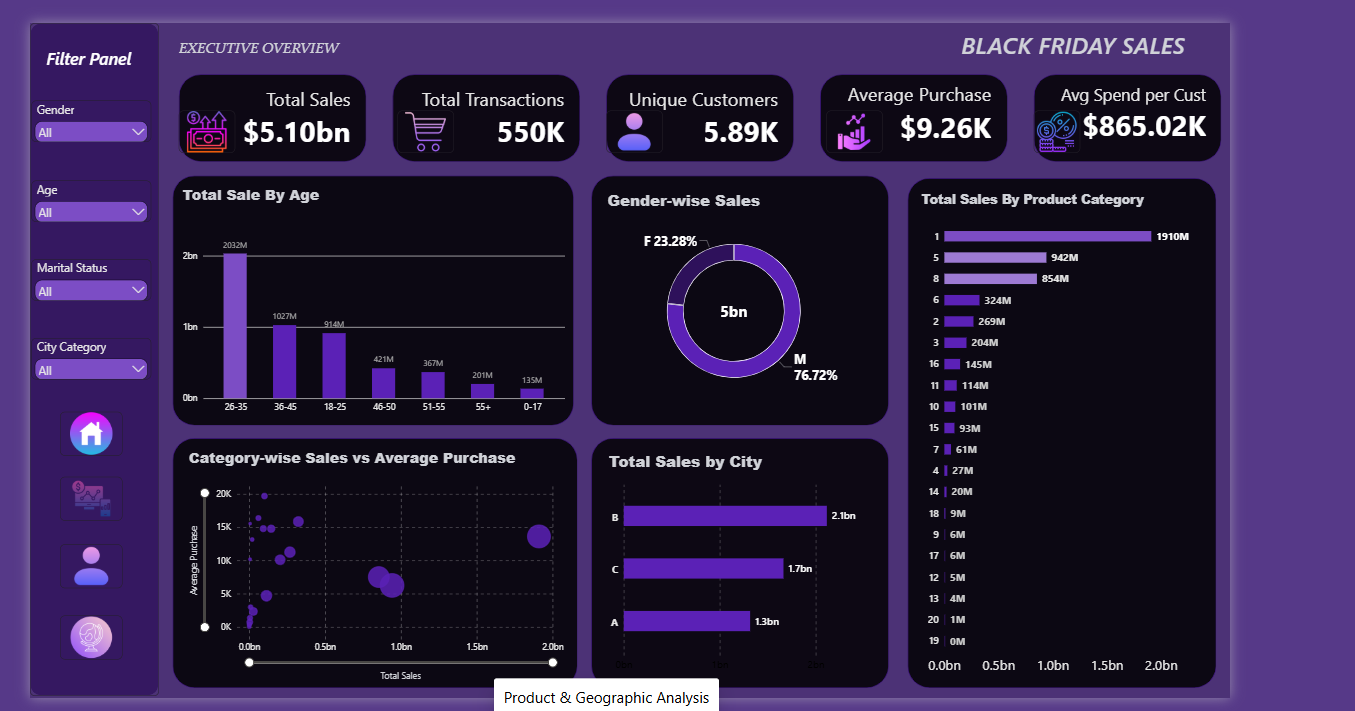

The dashboard page shown, as its layout file describes it:
{"tool":"powerbi","page":{"name":"EXECUTIVE OVERVIEW","canvas":[1920,1080],"ordinal":1},"visuals":[{"type":"shape","box":[238,82,300,140],"z":0},{"type":"shape","box":[580,82,300,140],"z":1000},{"type":"shape","box":[922,82,300,140],"z":2000},{"type":"shape","box":[1264,82,300,140],"z":3000},{"type":"shape","box":[1606,82,300,140],"z":4000},{"type":"shape","box":[228,244,642,400],"z":5000},{"type":"shape","box":[228,664,648,400],"z":6000},{"type":"shape","box":[1404,248,494,816],"z":7000},{"type":"shape","box":[898,244,476,400],"z":8000},{"type":"shape","box":[898,664,476,400],"z":9000},{"type":"shape","box":[0,0,206.3,1076.7],"z":10000},{"type":"cardVisual","fields":{"Data":["_Measures.Total Sales"]},"box":[238,82,291,140],"z":11000},{"type":"cardVisual","fields":{"Data":["_Measures.Average Purchase"]},"box":[1282,82,272,126],"z":12000},{"type":"cardVisual","fields":{"Data":["_Measures.Unique Customers"]},"box":[922.2,81.3,291,140],"z":13000},{"type":"cardVisual","fields":{"Data":["_Measures.Total Transactions"]},"box":[580.5,81.3,291,140],"z":14000},{"type":"cardVisual","fields":{"Data":["_Measures.Average Spend per Customer"]},"box":[1606,82,292,126],"z":15000},{"type":"clusteredColumnChart","title":"Total Sale By Age","fields":{"Category":["black_friday_db black_friday_data.Age"],"Y":["Sum(black_friday_db black_friday_data.Purchase)"]},"box":[228,244,644,400],"z":16000},{"type":"donutChart","title":"Gender-wise Sales","fields":{"Category":["black_friday_db black_friday_data.Gender"],"Y":["_Measures.Total Sales"]},"box":[908,252,436,372],"z":17000},{"type":"barChart","title":"Total Sales by City ","fields":{"Y":["_Measures.Total Sales"],"Category":["black_friday_db black_friday_data.City_Category"]},"box":[910,670,454,388],"z":18000},{"type":"barChart","title":"Total Sales By Product Category","fields":{"Y":["_Measures.Total Sales"],"Category":["black_friday_db black_friday_data.Product_Category_1"]},"box":[1410,252,488,812],"z":19000},{"type":"scatterChart","title":"Category-wise Sales vs Average Purchase","fields":{"X":["_Measures.Total Sales"],"Y":["_Measures.Average Purchase"],"Size":["_Measures.Total Transactions"],"Category":["black_friday_db black_friday_data.Product_Category_1 Hierarchy.Product_Category_1"]},"box":[238,664,632,400],"z":20000},{"type":"textbox","box":[25.3,38,181,44],"z":21000},{"type":"slicer","fields":{"Values":["black_friday_db black_friday_data.Gender"]},"box":[2.3,124.9,192,66],"z":22000},{"type":"slicer","fields":{"Values":["black_friday_db black_friday_data.Age"]},"box":[2.3,251.5,192,66],"z":23000},{"type":"slicer","fields":{"Values":["black_friday_db black_friday_data.Marital_Status"]},"box":[2.3,378.1,192,66],"z":24000},{"type":"slicer","fields":{"Values":["black_friday_db black_friday_data.City_Category"]},"box":[2.3,504.8,192,66],"z":25000},{"type":"textbox","box":[1489.4,9,430.7,57.9],"z":26000},{"type":"textbox","box":[238.9,23.5,394.5,43.4],"z":27000},{"type":"image","box":[48,622,100,70],"z":28000},{"type":"image","box":[48,834,100,70],"z":29000},{"type":"image","box":[48,948,100,70],"z":30000},{"type":"image","box":[48,726,100,70],"z":31000},{"type":"actionButton","box":[54,624,100,66],"z":32000},{"type":"image","box":[238,140,90,68],"z":33000},{"type":"image","box":[588,140,90,68],"z":34000},{"type":"image","box":[922,140,90,68],"z":35000},{"type":"image","box":[1274,140,90,68],"z":36000},{"type":"image","box":[1606,140,74,68],"z":37000}]}

Visuals, with their boxes on the page's 1920x1080 design canvas (x1, y1, x2, y2). These are canvas units, not pixel positions in the 1355x711 screenshot, which may show the page scaled, cropped or inside an application window:
shape: detection(238, 82, 538, 222)
shape: detection(580, 82, 880, 222)
shape: detection(922, 82, 1222, 222)
shape: detection(1264, 82, 1564, 222)
shape: detection(1606, 82, 1906, 222)
shape: detection(228, 244, 870, 644)
shape: detection(228, 664, 876, 1064)
shape: detection(1404, 248, 1898, 1064)
shape: detection(898, 244, 1374, 644)
shape: detection(898, 664, 1374, 1064)
shape: detection(0, 0, 206, 1077)
cardVisual - _Measures.Total Sales: detection(238, 82, 529, 222)
cardVisual - _Measures.Average Purchase: detection(1282, 82, 1554, 208)
cardVisual - _Measures.Unique Customers: detection(922, 81, 1213, 221)
cardVisual - _Measures.Total Transactions: detection(580, 81, 872, 221)
cardVisual - _Measures.Average Spend per Customer: detection(1606, 82, 1898, 208)
"Total Sale By Age" clusteredColumnChart: detection(228, 244, 872, 644)
"Gender-wise Sales" donutChart: detection(908, 252, 1344, 624)
"Total Sales by City " barChart: detection(910, 670, 1364, 1058)
"Total Sales By Product Category" barChart: detection(1410, 252, 1898, 1064)
"Category-wise Sales vs Average Purchase" scatterChart: detection(238, 664, 870, 1064)
textbox: detection(25, 38, 206, 82)
slicer - black_friday_db black_friday_data.Gender: detection(2, 125, 194, 191)
slicer - black_friday_db black_friday_data.Age: detection(2, 252, 194, 318)
slicer - black_friday_db black_friday_data.Marital_Status: detection(2, 378, 194, 444)
slicer - black_friday_db black_friday_data.City_Category: detection(2, 505, 194, 571)
textbox: detection(1489, 9, 1920, 67)
textbox: detection(239, 24, 633, 67)
image: detection(48, 622, 148, 692)
image: detection(48, 834, 148, 904)
image: detection(48, 948, 148, 1018)
image: detection(48, 726, 148, 796)
actionButton: detection(54, 624, 154, 690)
image: detection(238, 140, 328, 208)
image: detection(588, 140, 678, 208)
image: detection(922, 140, 1012, 208)
image: detection(1274, 140, 1364, 208)
image: detection(1606, 140, 1680, 208)
